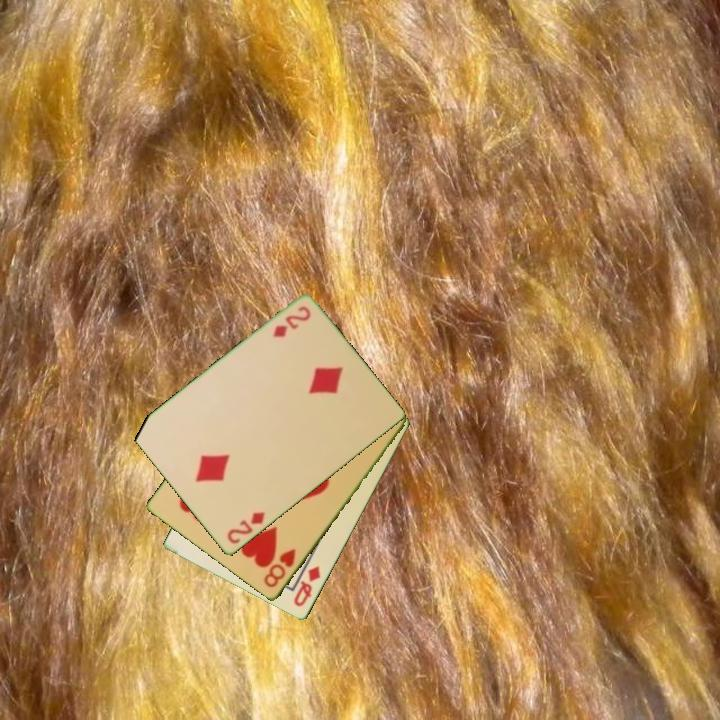2d: (223, 509, 268, 547), (269, 303, 314, 341)
8h: (260, 545, 299, 591)
Qd: (290, 563, 323, 610)
